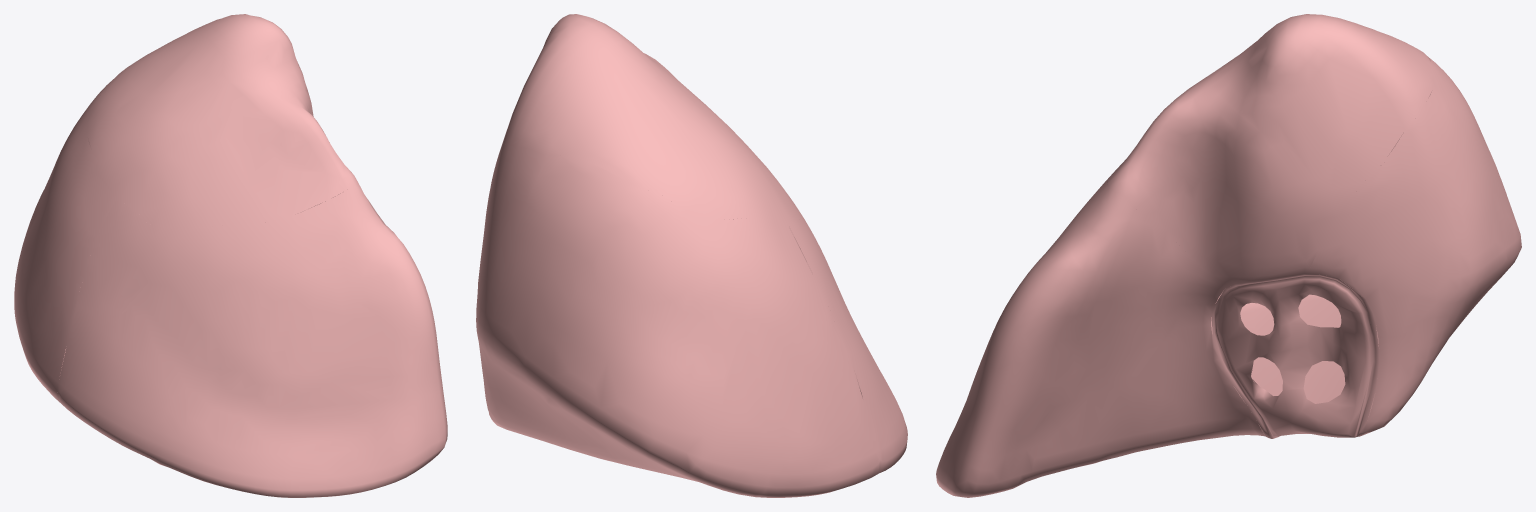
The model's file is visceras-superior-lobe-of-right-lung.glb.
3 renders of one model, left to right at view 1: azimuth 30°, elevation 25°; view 2: azimuth 150°, elevation 25°; view 3: azimuth 270°, elevation 25°, orthographic. The views are drawn at different scales.
Parts seen in each view (by area): view 1: Superior lobe of right lung; view 2: Superior lobe of right lung; view 3: Superior lobe of right lung.
Boxes of the visible parts, bbox=[...] form: Superior lobe of right lung: bbox=[14, 14, 447, 497]; Superior lobe of right lung: bbox=[476, 14, 907, 497]; Superior lobe of right lung: bbox=[936, 14, 1521, 497].
Bounding box in the file's own units: 0.1102 × 0.1374 × 0.1557.
